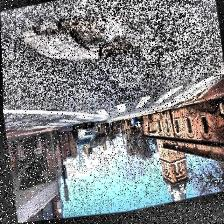pothole: (29, 2, 133, 76)
